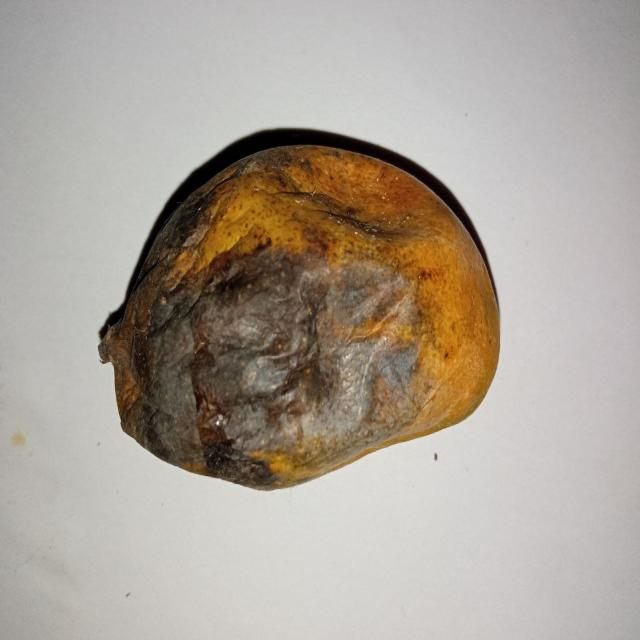rotten_mango: (99, 145, 495, 485)
